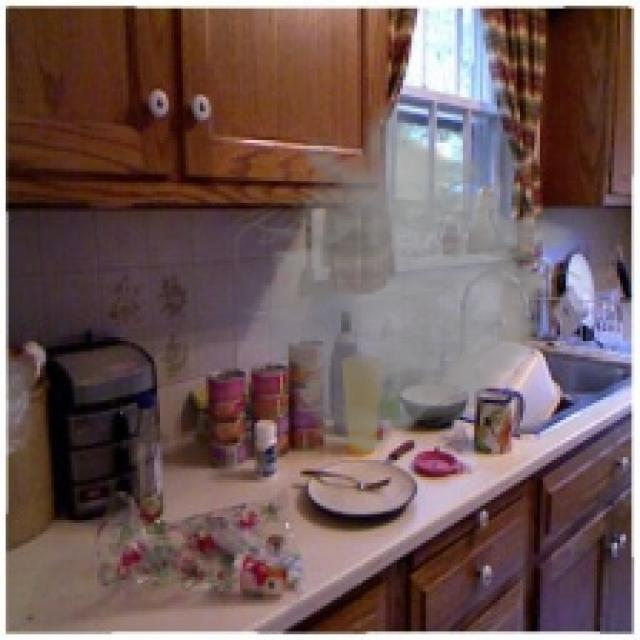smoke: (214, 100, 589, 457)
